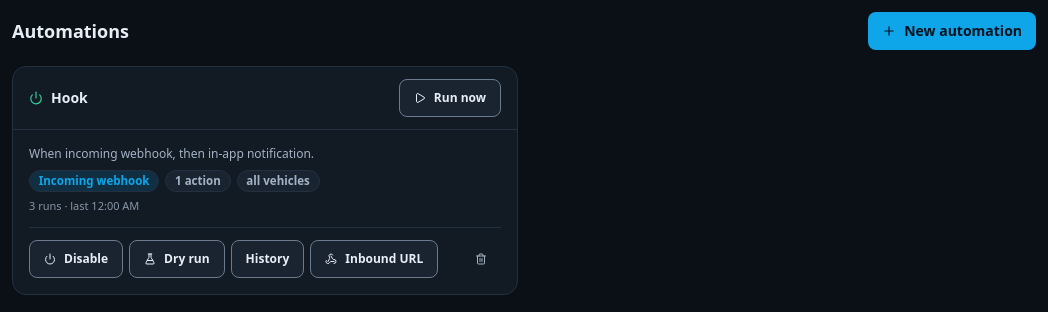
Test: AutomationsPage › toggles an automation enabled state
Expected: the text "Hook" is shown, [29,88,88,108]
Click the button "Disable": [76, 259] box [29,240,123,278]
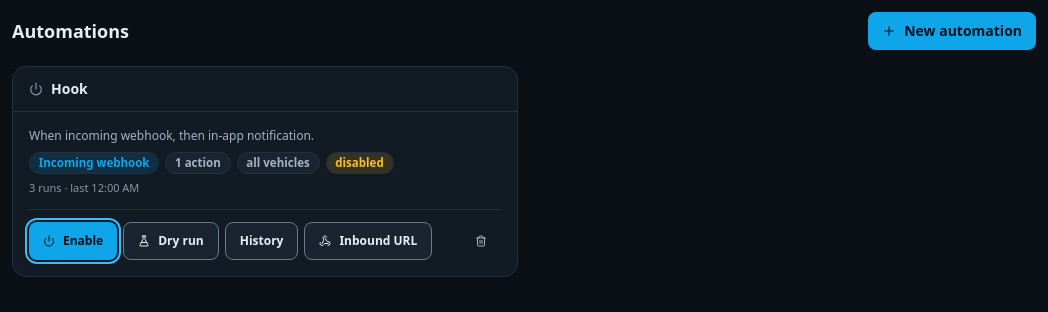
Expected: the button "Enable" is shown, [29,222,117,260]
